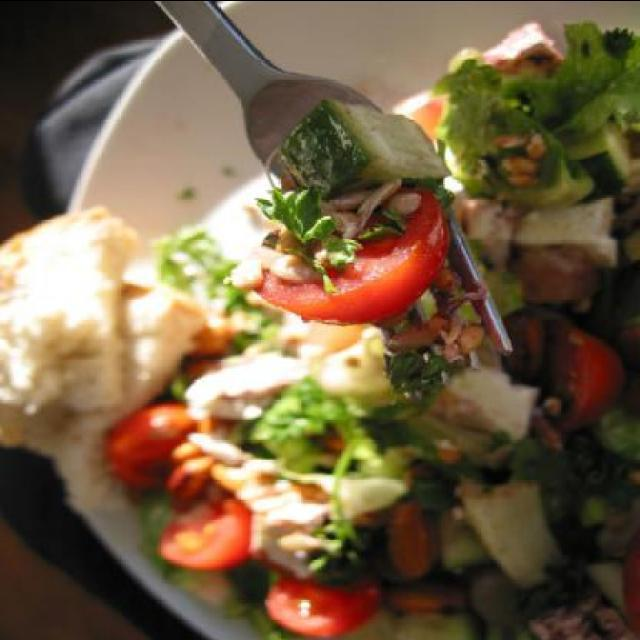Tomato: (246, 206, 448, 326), (264, 572, 386, 638), (159, 490, 256, 572), (110, 396, 196, 484), (565, 330, 623, 433)
